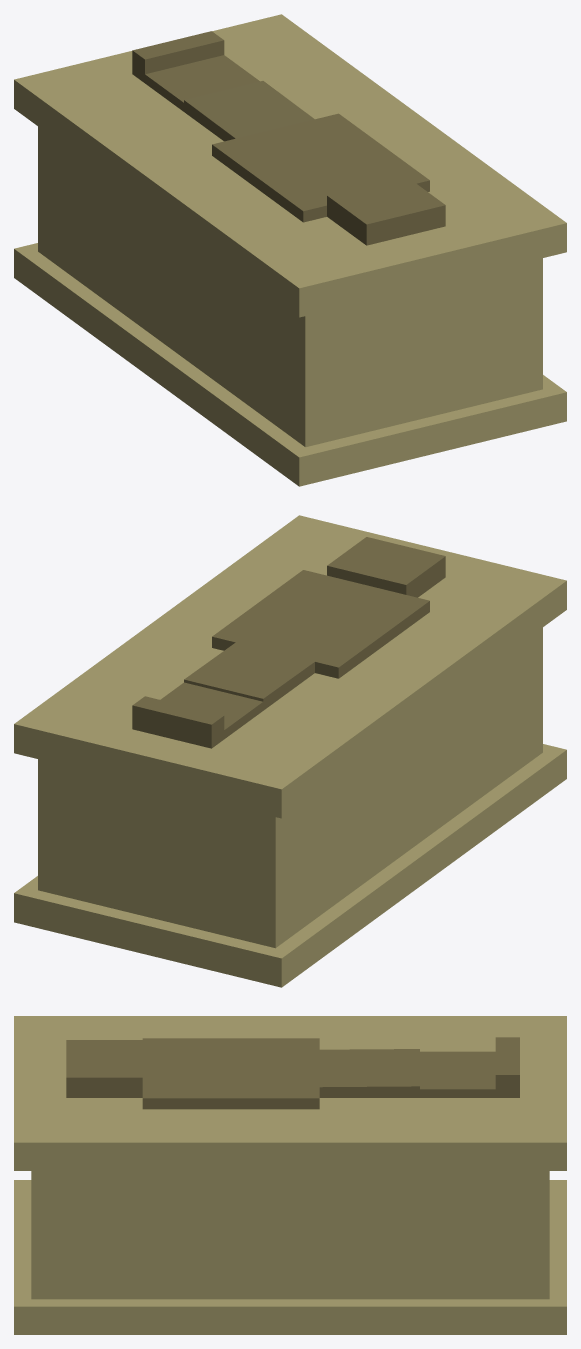
File: Temple Tomb closed.fbx
3 renders of one model, top to bottom at view 1: azimuth 30°, elevation 25°; view 2: azimuth 150°, elevation 25°; view 3: azimuth 270°, elevation 25°, orthographic. The views are drawn at different scales.
Visible parts, largest first — view 1: Tomb Closed; view 2: Tomb Closed; view 3: Tomb Closed.
Part boxes in pixels (box(x1,y1,x2,y2)): Tomb Closed: box(14, 14, 566, 486); Tomb Closed: box(14, 515, 566, 987); Tomb Closed: box(14, 1016, 566, 1334).
Bounding box in the file's own units: 285 × 226 × 526.
